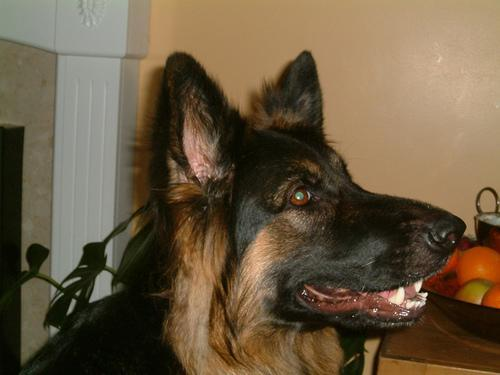German_shepherd: (1, 44, 469, 374)
